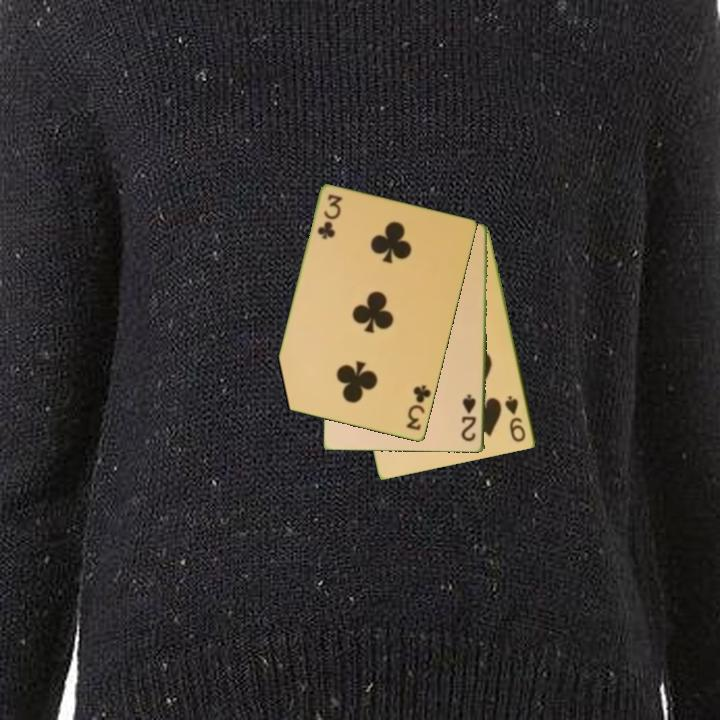2s: (459, 391, 479, 444)
3c: (403, 382, 434, 434), (314, 191, 344, 243)
9s: (502, 392, 529, 445)
